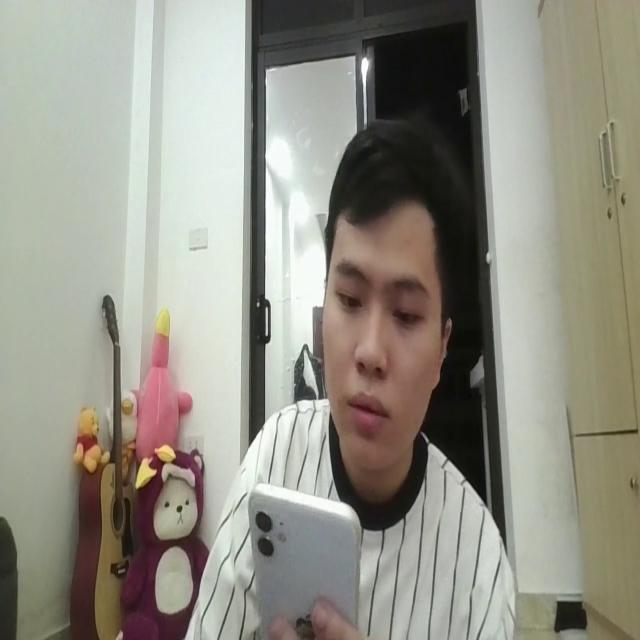phone: (248, 470, 362, 640)
student: (190, 130, 513, 640)
